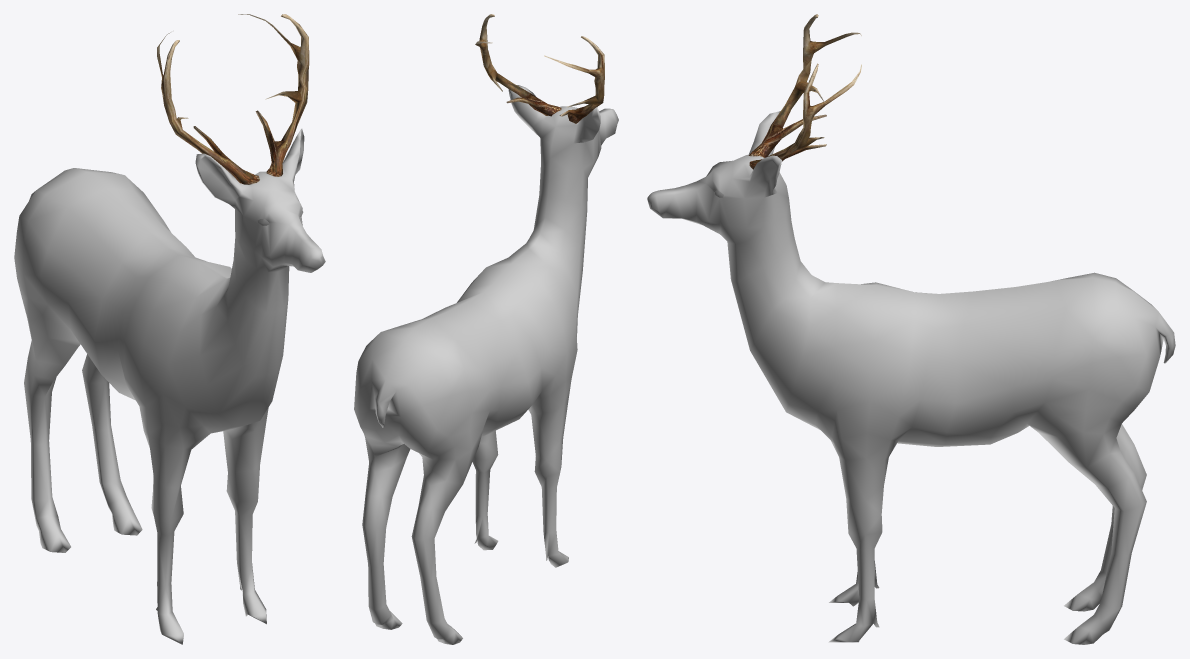
The model's file is Deer.obj.
The picture shows the model from 3 angles, left to right: view 1: azimuth 30°, elevation 25°; view 2: azimuth 150°, elevation 25°; view 3: azimuth 270°, elevation 25°; orthographic projection. The views are drawn at different scales.
Bounding box in the file's own units: 1.01 × 4.1 × 3.36.
